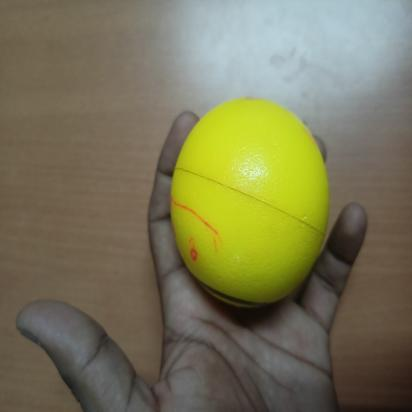Yellowball: (166, 89, 333, 313)
